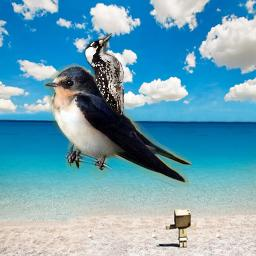Swallow: (43, 63, 192, 188)
Woodpecker: (83, 33, 124, 115)
